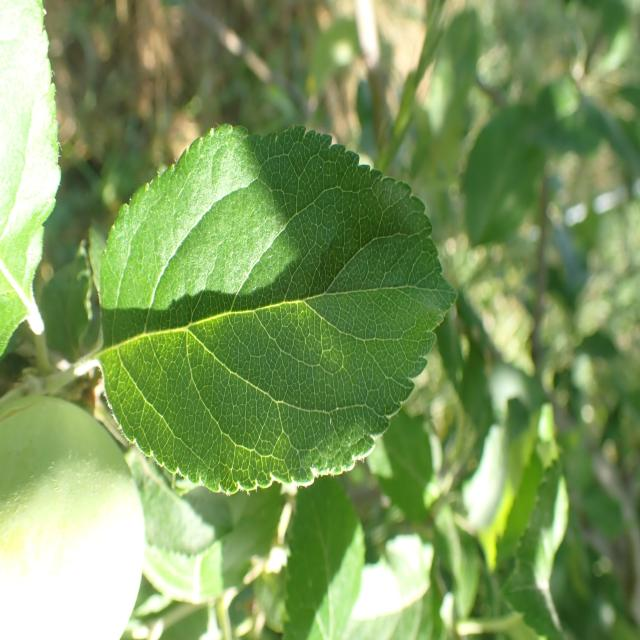healthy: (98, 121, 458, 496), (0, 393, 146, 640), (0, 0, 61, 358)
